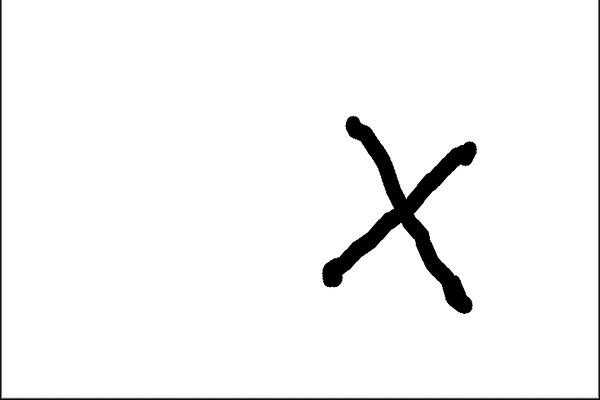X: (275, 95, 534, 319)
